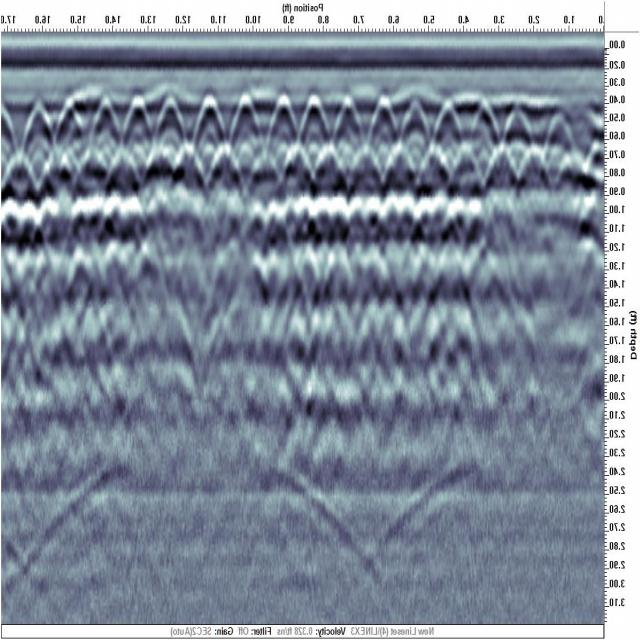hyperbola: (364, 90, 408, 165), (460, 95, 506, 164), (263, 89, 305, 164), (428, 96, 470, 170), (327, 91, 370, 163), (295, 90, 335, 166), (119, 92, 159, 168), (190, 92, 230, 165), (19, 96, 59, 168)
